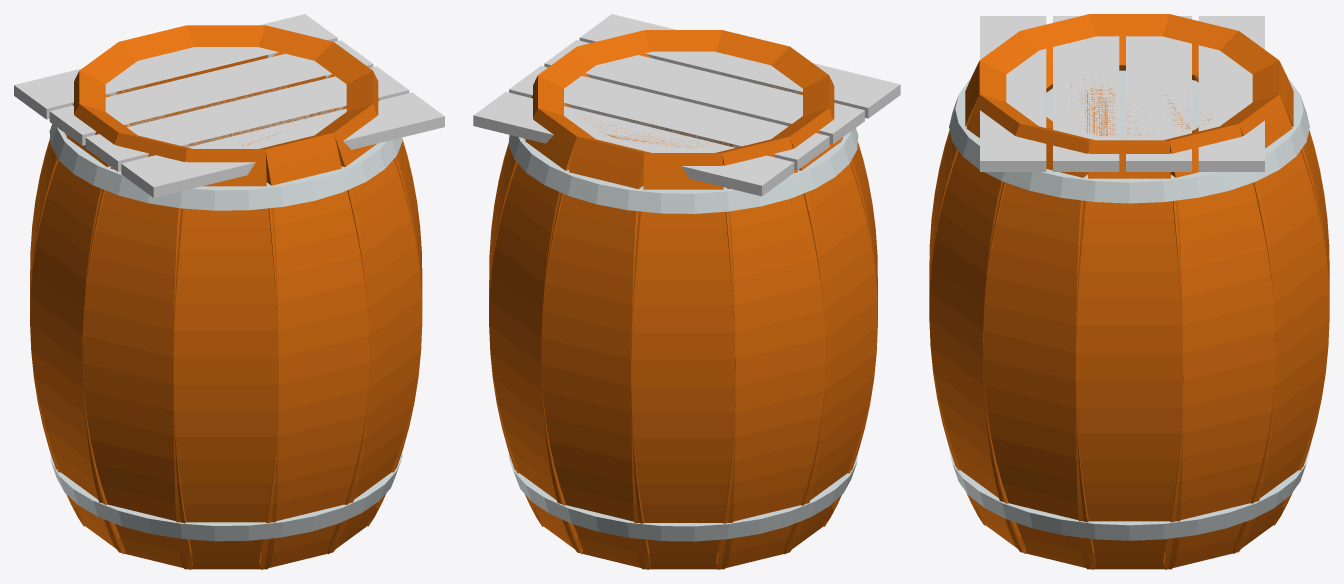
Rendered from Salomon_Clément - Le tonneau.fbx.
3 renders of one model, left to right at view 1: azimuth 30°, elevation 25°; view 2: azimuth 150°, elevation 25°; view 3: azimuth 270°, elevation 25°, orthographic. The views are drawn at different scales.
Visible parts, largest first — view 1: Cube, Cube.001, Cylindre.001, Cylindre; view 2: Cube, Cube.001, Cylindre.001; view 3: Cube, Cube.001, Cylindre.001, Cylindre.
Part boxes in pixels (x1=…): Cube: x1=30, y1=25, x2=422, y2=569; Cube.001: x1=14, y1=14, x2=444, y2=197; Cylindre.001: x1=49, y1=124, x2=402, y2=541; Cylindre: x1=116, y1=55, x2=338, y2=146; Cube: x1=489, y1=30, x2=877, y2=569; Cube.001: x1=473, y1=14, x2=900, y2=196; Cylindre.001: x1=508, y1=128, x2=858, y2=541; Cube: x1=929, y1=14, x2=1329, y2=569; Cube.001: x1=980, y1=16, x2=1264, y2=171; Cylindre.001: x1=949, y1=70, x2=1309, y2=540; Cylindre: x1=1046, y1=75, x2=1212, y2=136.
Bounding box in the file's own units: 1207 × 1432 × 1207.
